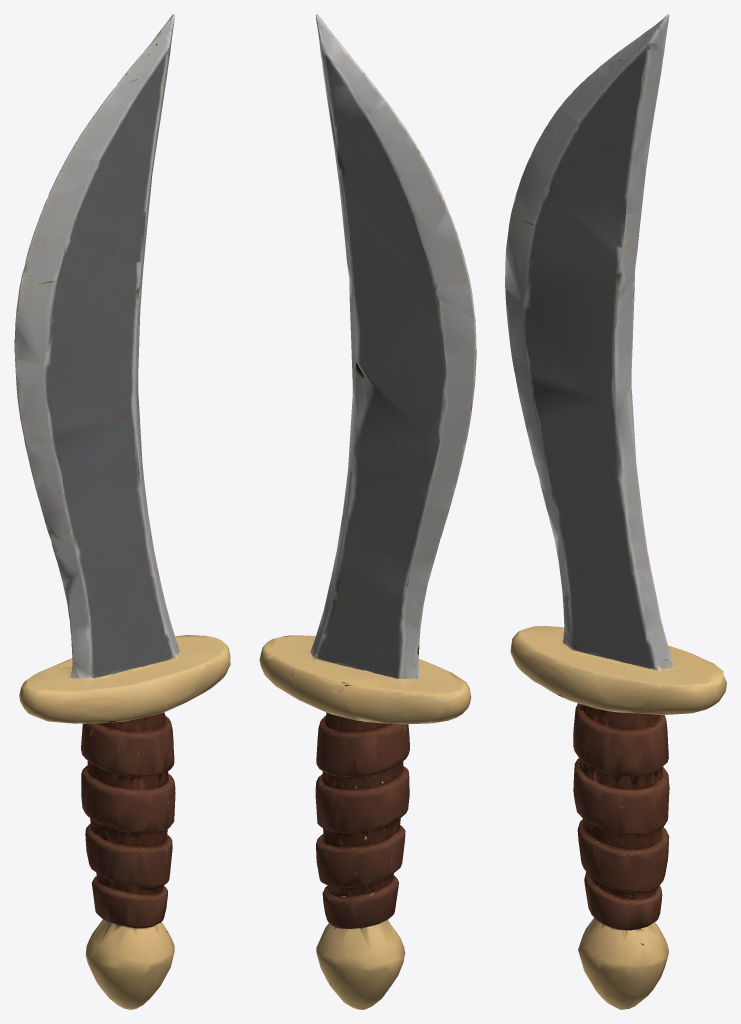
Rendered from upm_mu5vzl3p2kk.glb.
3 renders of one model, left to right at view 1: azimuth 30°, elevation 25°; view 2: azimuth 150°, elevation 25°; view 3: azimuth 330°, elevation 25°, orthographic. The views are drawn at different scales.
Size of the model in its own units: 0.4273 by 1.9 by 0.1913.
1 material, 1 textured.
